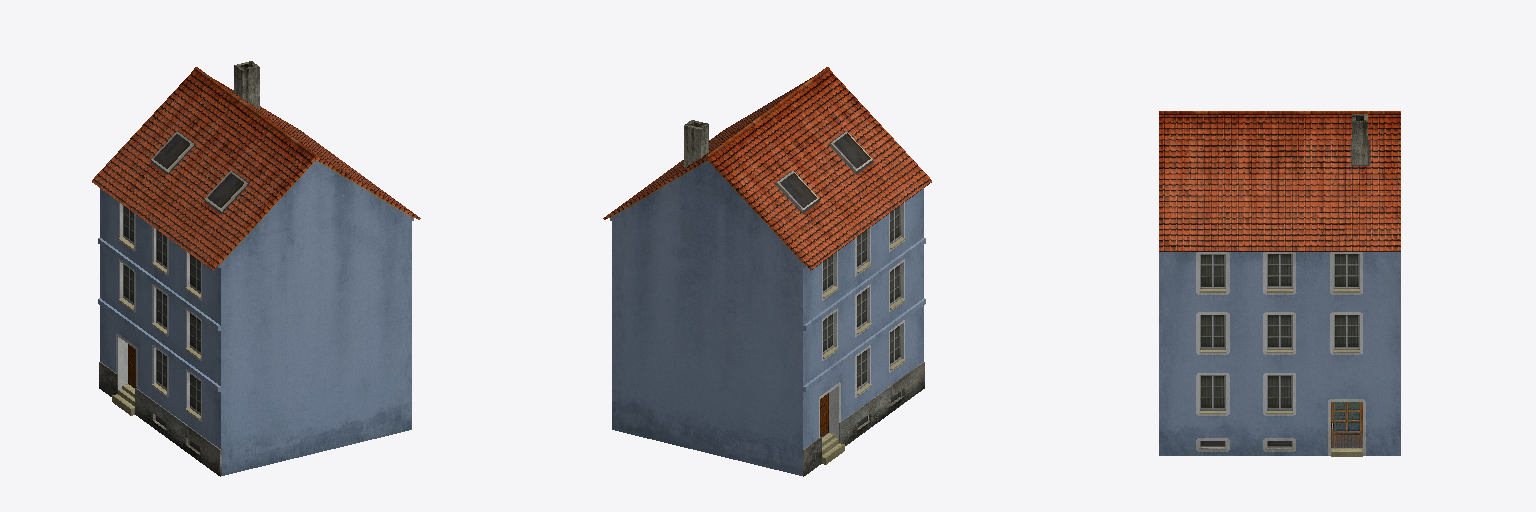
3 views of the same model, side by side, from view 1: azimuth 30°, elevation 25°; view 2: azimuth 150°, elevation 25°; view 3: azimuth 270°, elevation 25° (orthographic).
Parts seen in each view (by area): view 1: Default; view 2: Default; view 3: Default.
Part boxes in pixels (x1,y1,x2,y2): Default: (92,61,420,476); Default: (603,67,931,476); Default: (1159,111,1400,456).
Bounding box in the file's own units: 9 × 12.6 × 9.
1 materials, 1 textured.